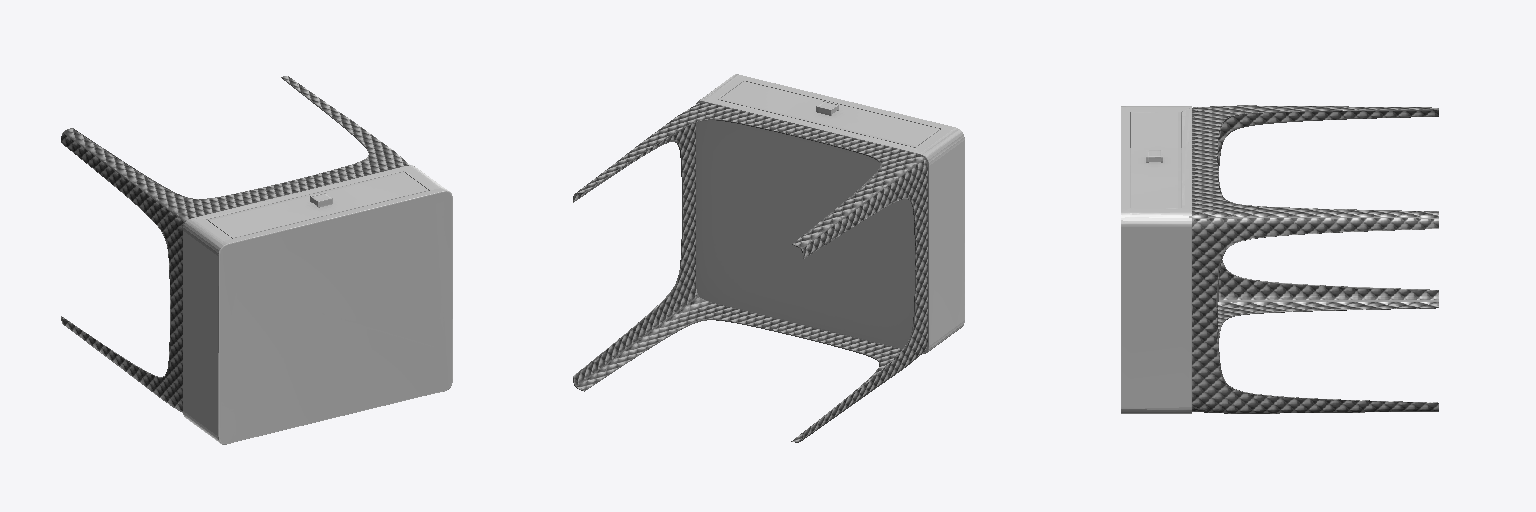
3 views of the same model, side by side, from view 1: azimuth 30°, elevation 25°; view 2: azimuth 150°, elevation 25°; view 3: azimuth 270°, elevation 25° (orthographic).
Size of the model in its own units: 0.49 by 0.4163 by 0.5774.
Materials: 1 (1 with a texture image).